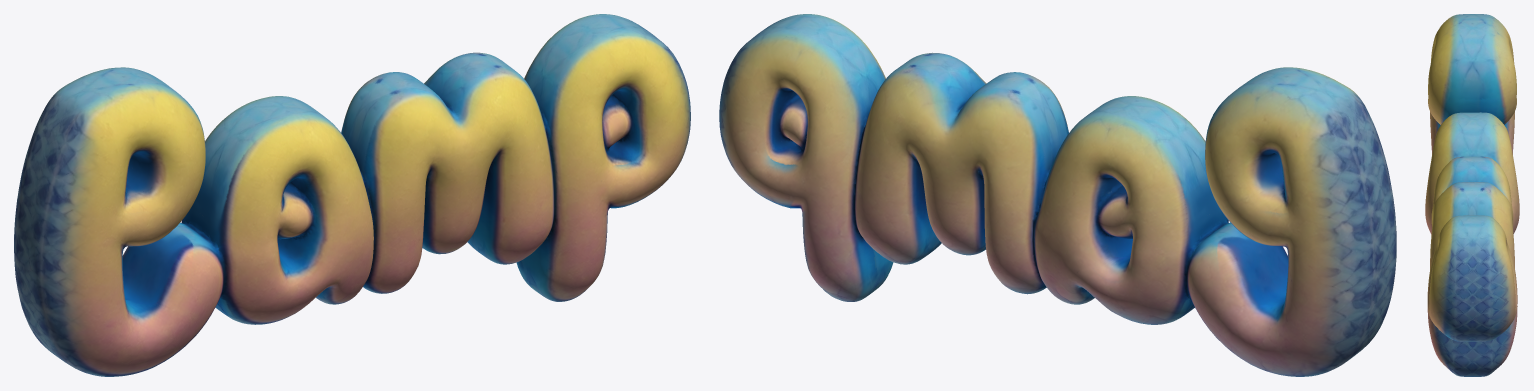
The model's file is camp.glb.
3 views of the same model, side by side, from view 1: azimuth 30°, elevation 25°; view 2: azimuth 150°, elevation 25°; view 3: azimuth 270°, elevation 25° (orthographic). The views are drawn at different scales.
Visible parts, largest first — view 1: mesh_node; view 2: mesh_node; view 3: mesh_node.
Boxes of the visible parts, x1=… form: mesh_node: x1=14, y1=14, x2=690, y2=376; mesh_node: x1=719, y1=14, x2=1396, y2=376; mesh_node: x1=1425, y1=14, x2=1519, y2=376.
Bounding box in the file's own units: 1.87 × 0.8841 × 0.3555.
1 material, 1 textured.
